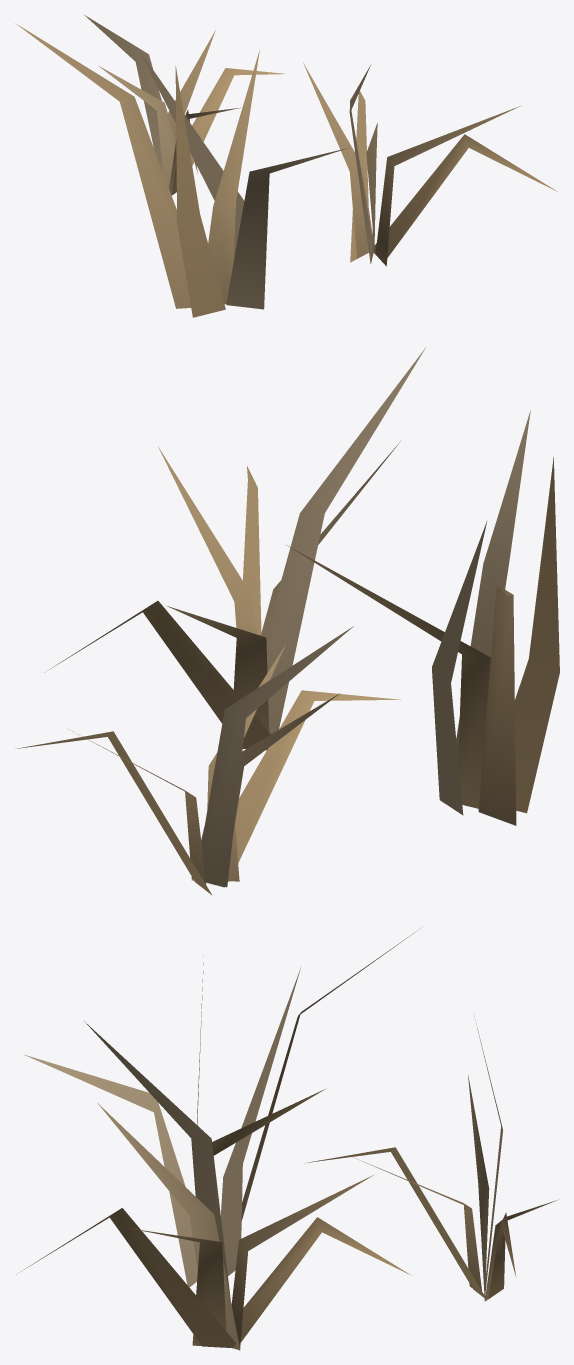
File: Grass_g_TwoS_05.fbx
3 renders of one model, top to bottom at view 1: azimuth 30°, elevation 25°; view 2: azimuth 150°, elevation 25°; view 3: azimuth 270°, elevation 25°, orthographic. The views are drawn at different scales.
Visible parts, largest first — view 1: Grass_g_TwoS_05; view 2: Grass_g_TwoS_05; view 3: Grass_g_TwoS_05.
Part boxes in pixels (x1,y1,x2,y2): Grass_g_TwoS_05: (15,15,557,317); Grass_g_TwoS_05: (16,347,559,894); Grass_g_TwoS_05: (16,928,558,1350).
Size of the model in its own units: 77.98 by 51.88 by 84.81.
